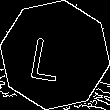L_N: (36, 28, 74, 82)
